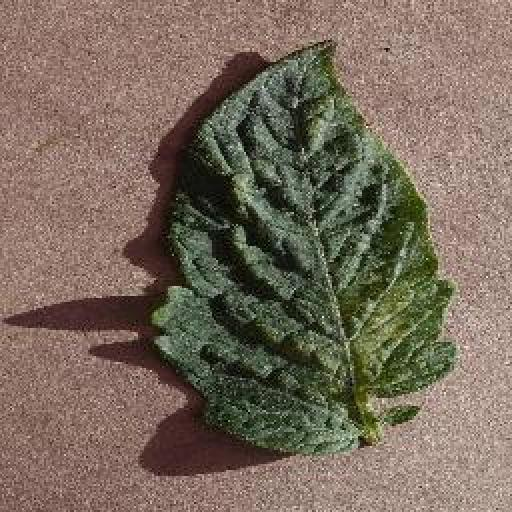disease_tomato: (150, 38, 458, 454)
